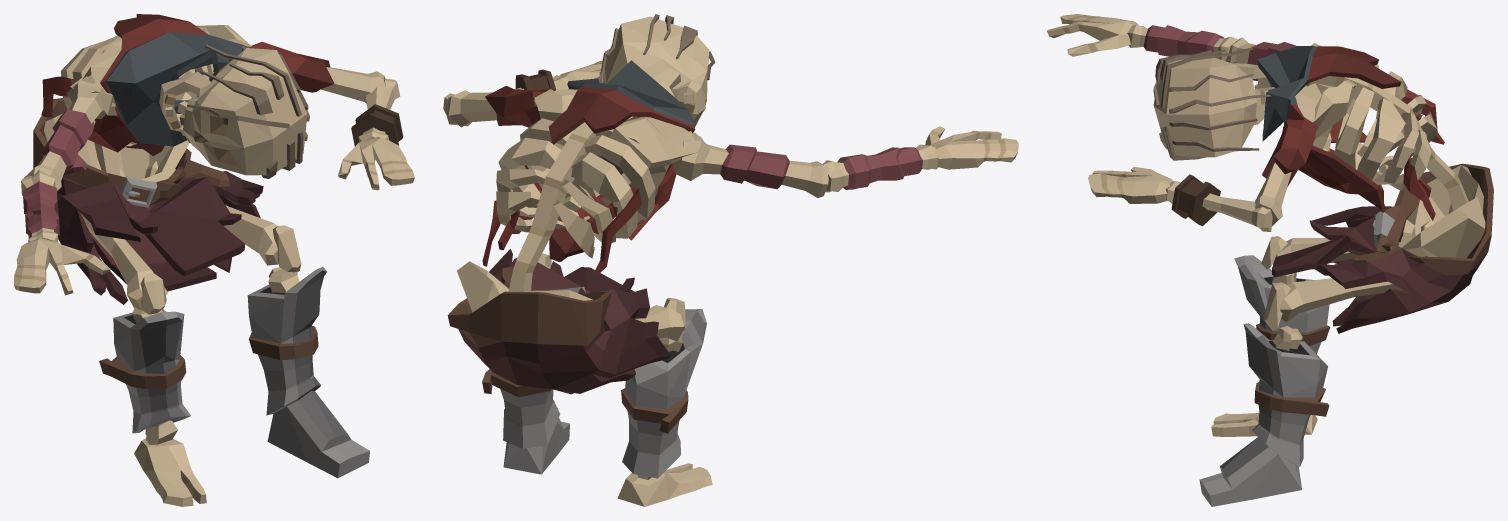
The model's file is SM_Prop_Skeleton_Table_01.glb.
3 renders of one model, left to right at view 1: azimuth 30°, elevation 25°; view 2: azimuth 150°, elevation 25°; view 3: azimuth 270°, elevation 25°, orthographic. The views are drawn at different scales.
Visible parts, largest first — view 1: SM_Prop_Skeleton_Table_01; view 2: SM_Prop_Skeleton_Table_01; view 3: SM_Prop_Skeleton_Table_01.
Part boxes in pixels (left/top/right/bottom): SM_Prop_Skeleton_Table_01: left=14, top=14, right=414, bottom=506; SM_Prop_Skeleton_Table_01: left=443, top=14, right=1018, bottom=506; SM_Prop_Skeleton_Table_01: left=1047, top=14, right=1493, bottom=506.
Bounding box in the file's own units: 0.0126 × 0.011 × 0.0111.
Materials: 1 (1 with a texture image).
